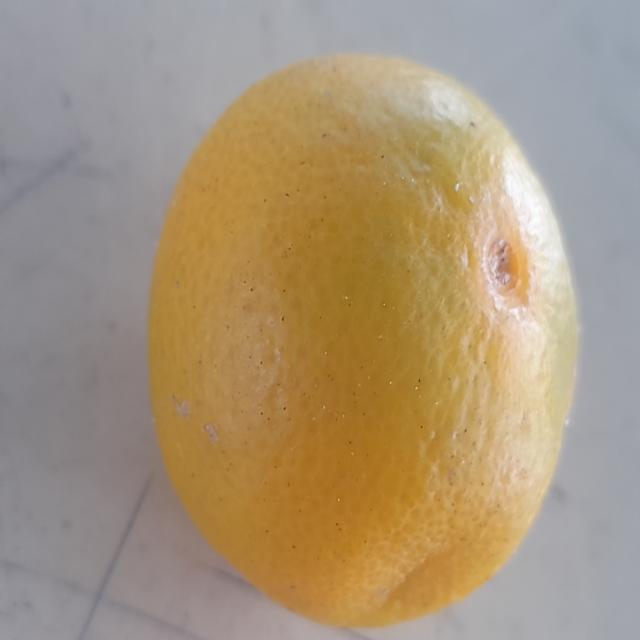greening: (148, 48, 580, 631)
